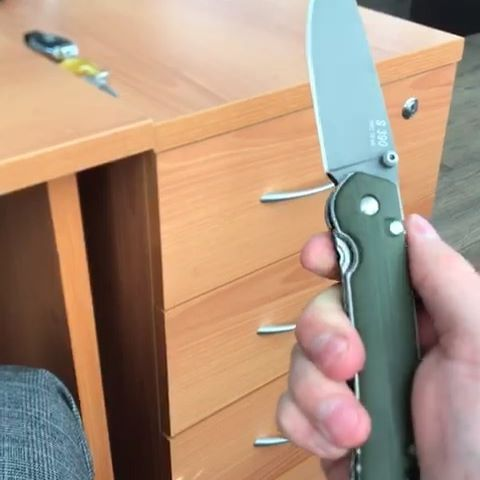knife: (307, 1, 418, 478)
